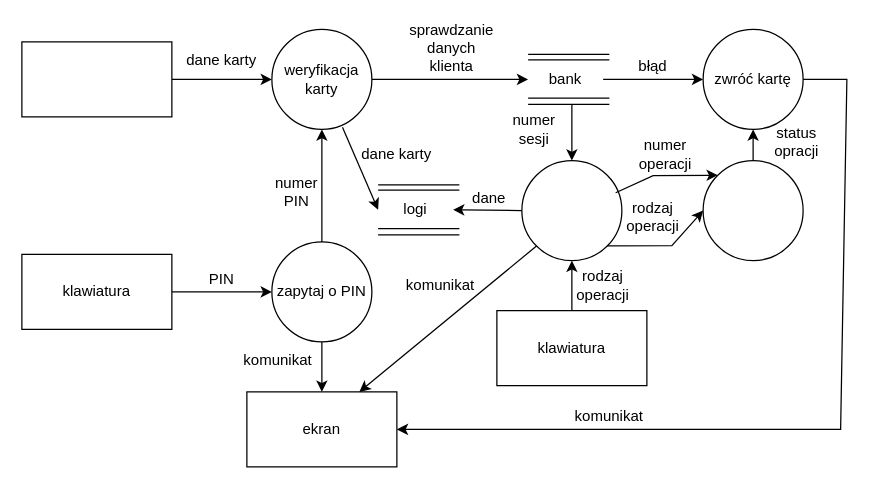
Image size: 879x489. Some labels were removed from this diagram. The centre of each missing label's shape, as x and y in pixels:
czytnik kart: the point at 96,79
wykonaj operacje: the point at 752,210
zapytaj o rodzaj operacji: the point at 571,210
